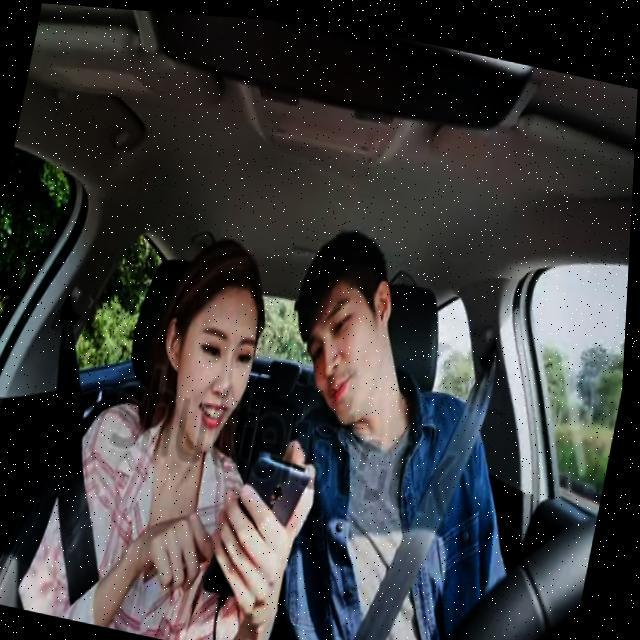PhoneCall: (205, 435, 318, 604)
